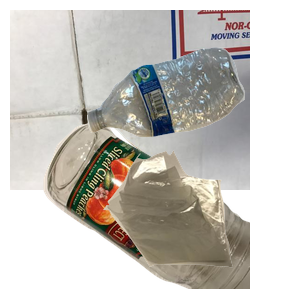cardboard: (10, 10, 250, 190)
glass: (41, 120, 281, 300)
plastic: (85, 45, 300, 175)
trash: (101, 148, 300, 300)
